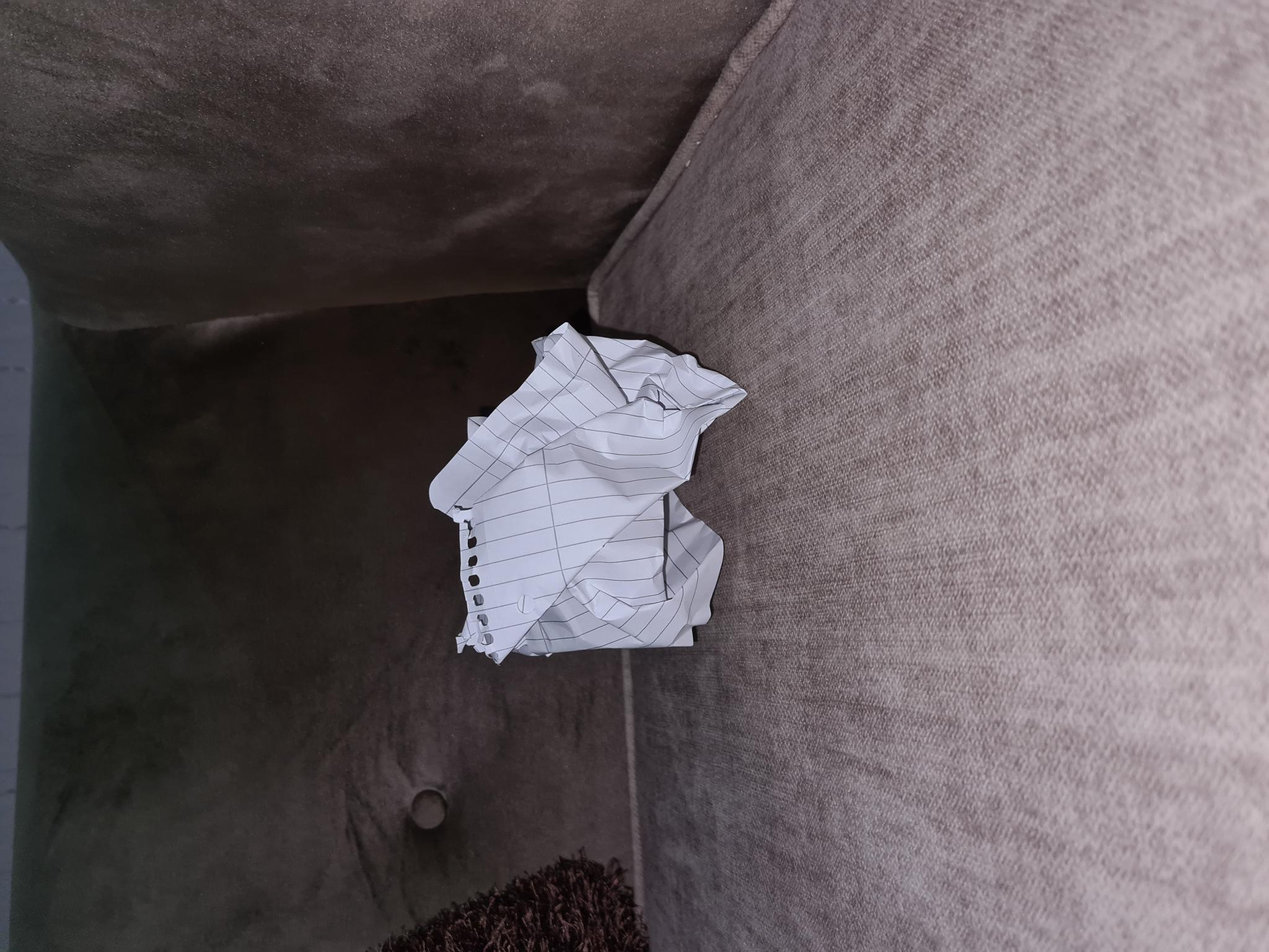Kertas: (287, 429, 640, 744)
